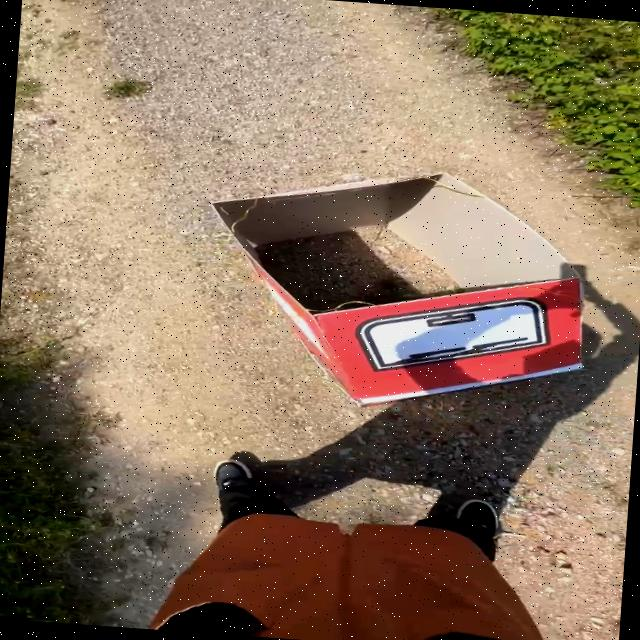red_car: (172, 134, 618, 427)
